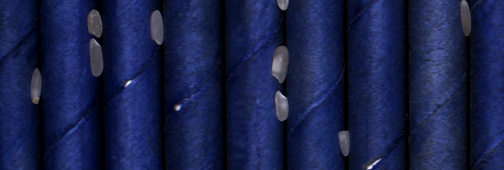broken_grain: (83, 6, 104, 38), (336, 129, 352, 158)
complete_grain: (269, 44, 290, 86), (88, 37, 106, 80), (458, 1, 474, 39), (149, 8, 164, 47), (273, 89, 290, 123)
yellow_grain: (28, 67, 43, 109)
